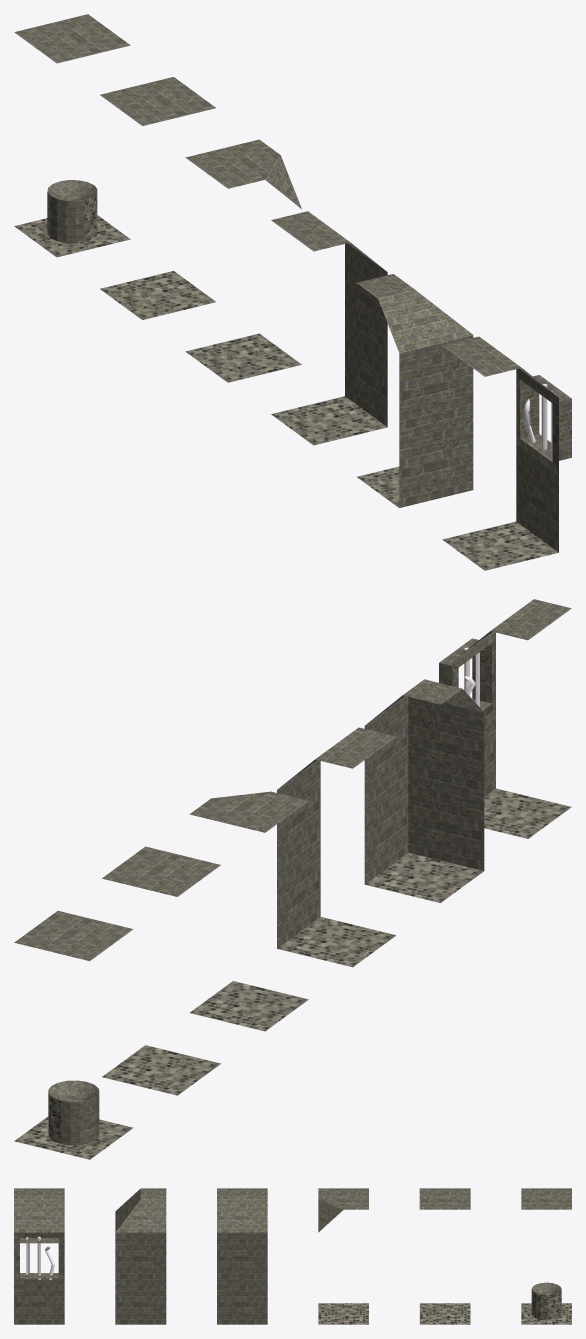
File: tileset.glb
The picture shows the model from 3 angles, top to bottom: view 1: azimuth 30°, elevation 25°; view 2: azimuth 150°, elevation 25°; view 3: azimuth 270°, elevation 25°; orthographic projection. The views are drawn at different scales.
Parts seen in each view (by area): view 1: corner_inner-col, wall-col.001, wall-col, floor-col.001, corner_outer-col, floor-col; view 2: corner_inner-col, wall-col, wall-col.001, floor-col.001, floor-col, corner_outer-col; view 3: wall-col, corner_inner-col, wall-col.001, floor-col.001, corner_outer-col, floor-col.
Boxes of the visible parts, x1=… form: corner_inner-col: x1=357, y1=274, x2=473, y2=507; wall-col.001: x1=442, y1=336, x2=571, y2=570; wall-col: x1=271, y1=211, x2=387, y2=445; floor-col.001: x1=14, y1=14, x2=130, y2=257; corner_outer-col: x1=185, y1=139, x2=301, y2=382; floor-col: x1=100, y1=77, x2=215, y2=319; corner_inner-col: x1=364, y1=679, x2=484, y2=902; wall-col: x1=277, y1=727, x2=396, y2=967; wall-col.001: x1=439, y1=599, x2=571, y2=838; floor-col.001: x1=14, y1=911, x2=133, y2=1159; floor-col: x1=102, y1=846, x2=220, y2=1095; corner_outer-col: x1=189, y1=791, x2=308, y2=1031; wall-col: x1=217, y1=1188, x2=267, y2=1324; corner_inner-col: x1=115, y1=1188, x2=166, y2=1324; wall-col.001: x1=14, y1=1188, x2=64, y2=1324; floor-col.001: x1=521, y1=1188, x2=571, y2=1324; corner_outer-col: x1=318, y1=1188, x2=368, y2=1324; floor-col: x1=419, y1=1188, x2=470, y2=1324.
Bounding box in the file's own units: 1.24 × 2.54 × 11.
Materials: 2 (1 with a texture image).
